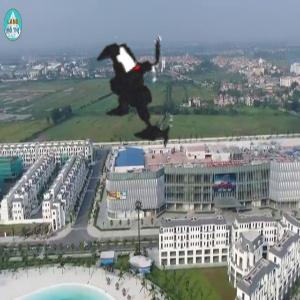drone: (58, 3, 233, 178)
